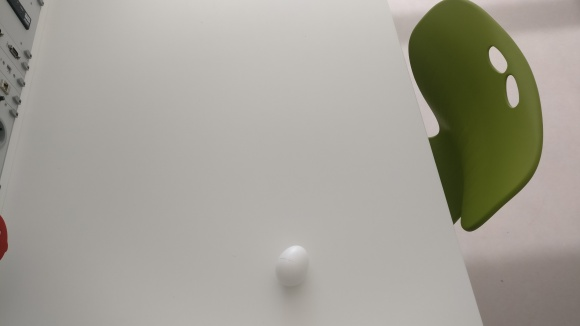egg: (274, 245, 311, 288)
